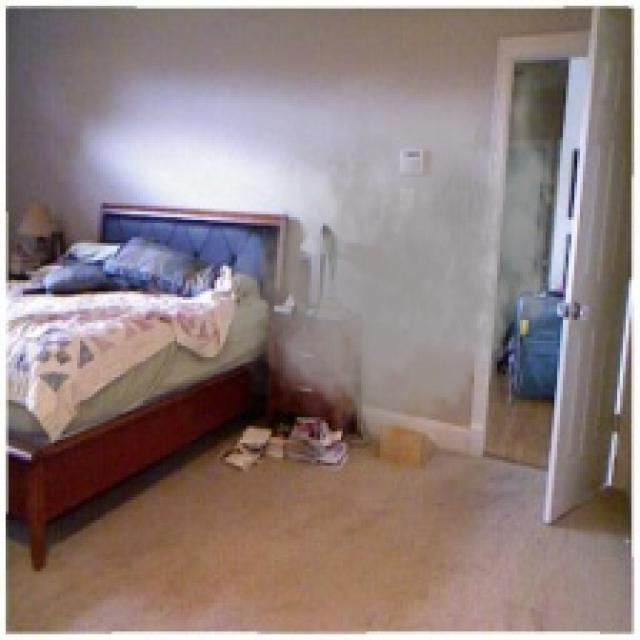Smoke: (214, 54, 572, 454)
